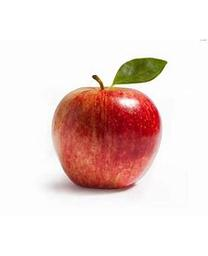apple: (49, 74, 162, 188)
